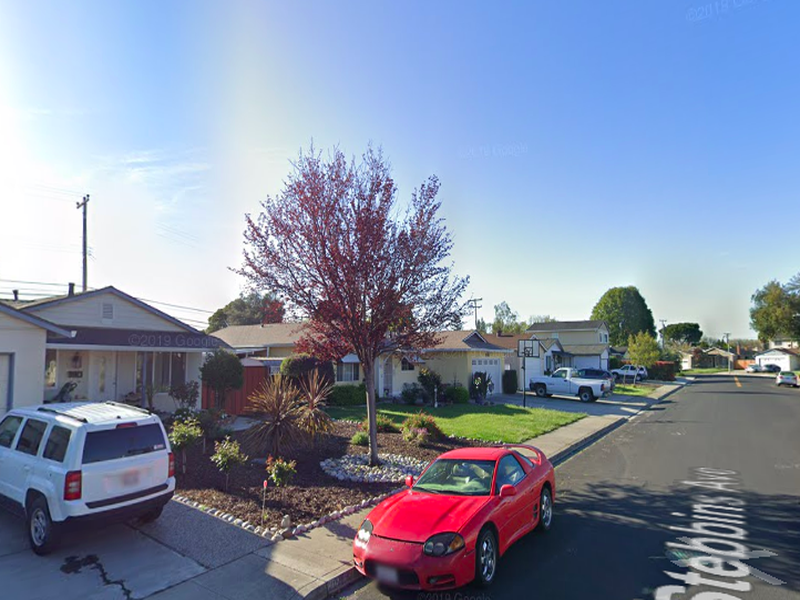tree: (226, 135, 471, 471)
